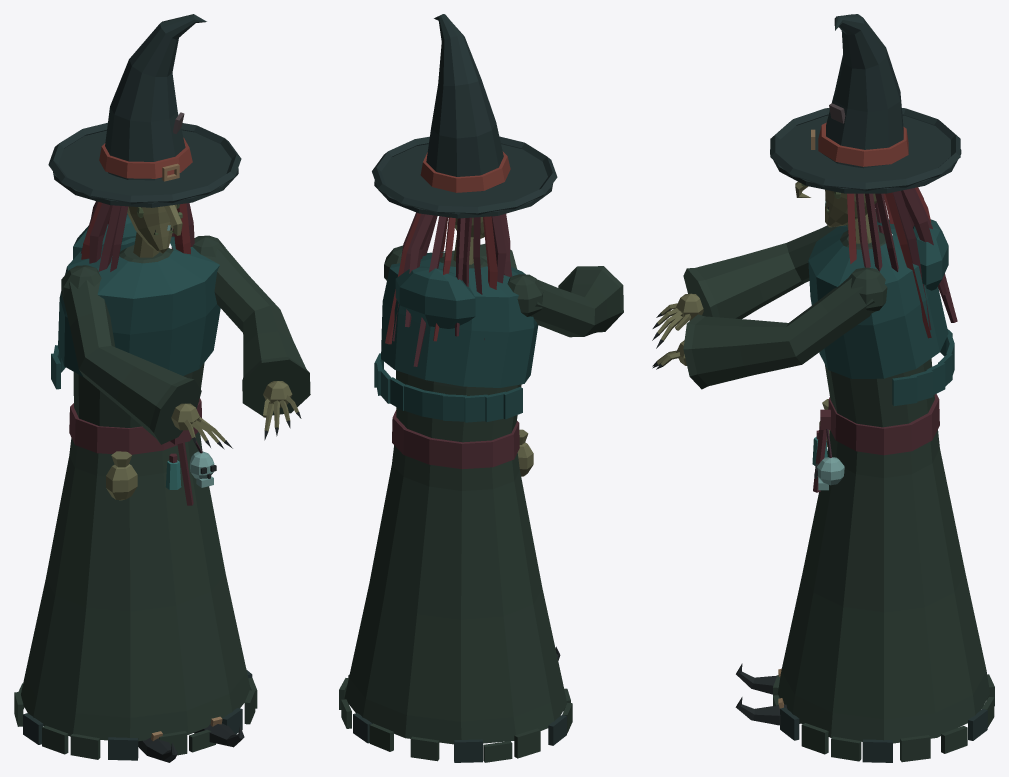
File: vrajitoare_3.glb
3 views of the same model, side by side, from view 1: azimuth 30°, elevation 25°; view 2: azimuth 150°, elevation 25°; view 3: azimuth 270°, elevation 25° (orthographic). The views are drawn at different scales.
Visible parts, largest first — view 1: Corp, Cap, Brate; view 2: Corp, Cap, Brate; view 3: Corp, Cap, Brate.
Part boxes in pixels (left/top/right/bottom): Corp: left=14, top=213, right=257, bottom=762; Cap: left=48, top=14, right=241, bottom=271; Brate: left=61, top=235, right=310, bottom=449; Corp: left=339, top=251, right=572, bottom=762; Cap: left=372, top=14, right=557, bottom=366; Brate: left=384, top=243, right=623, bottom=337; Corp: left=735, top=219, right=994, bottom=762; Cap: left=770, top=14, right=961, bottom=338; Brate: left=652, top=210, right=887, bottom=389.
Size of the model in its own units: 0.705 by 2.22 by 0.9684.
